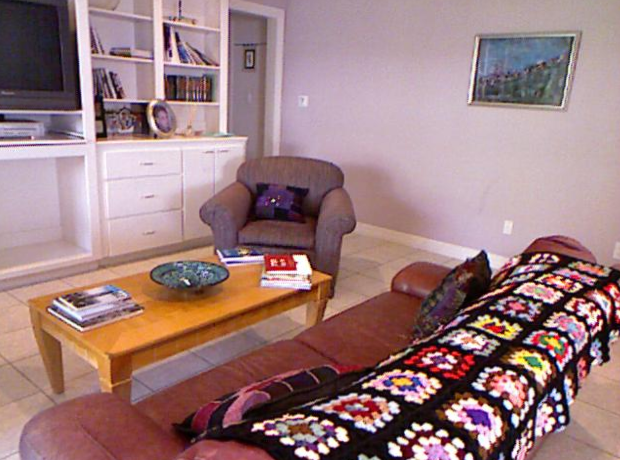cabinet: (99, 2, 227, 136)
cabinetDoor: (113, 179, 178, 208), (114, 218, 179, 243), (184, 150, 214, 195), (108, 152, 173, 172), (216, 147, 236, 182)
couch: (383, 247, 578, 436), (213, 157, 353, 251)
openedDoor: (229, 9, 284, 136)
table: (64, 286, 331, 327)
